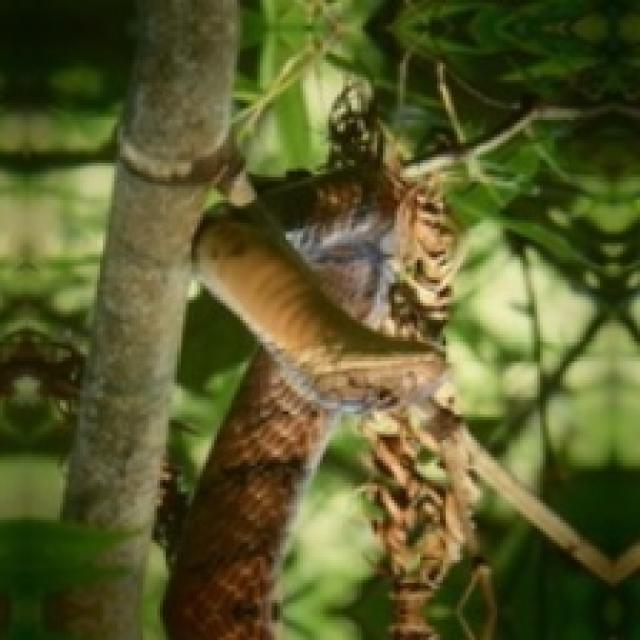king cobra: (166, 83, 637, 637)
